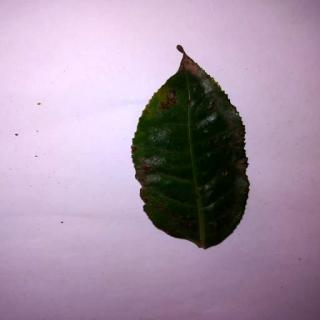Bird Eye Spot: (131, 46, 252, 250)
